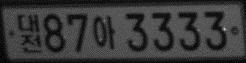3: (177, 10, 202, 52), (151, 11, 175, 52), (204, 9, 227, 51), (124, 12, 148, 52)
7: (66, 13, 89, 52)
8: (43, 12, 65, 52)
대전_V: (16, 13, 42, 54)
아: (92, 14, 116, 49)
